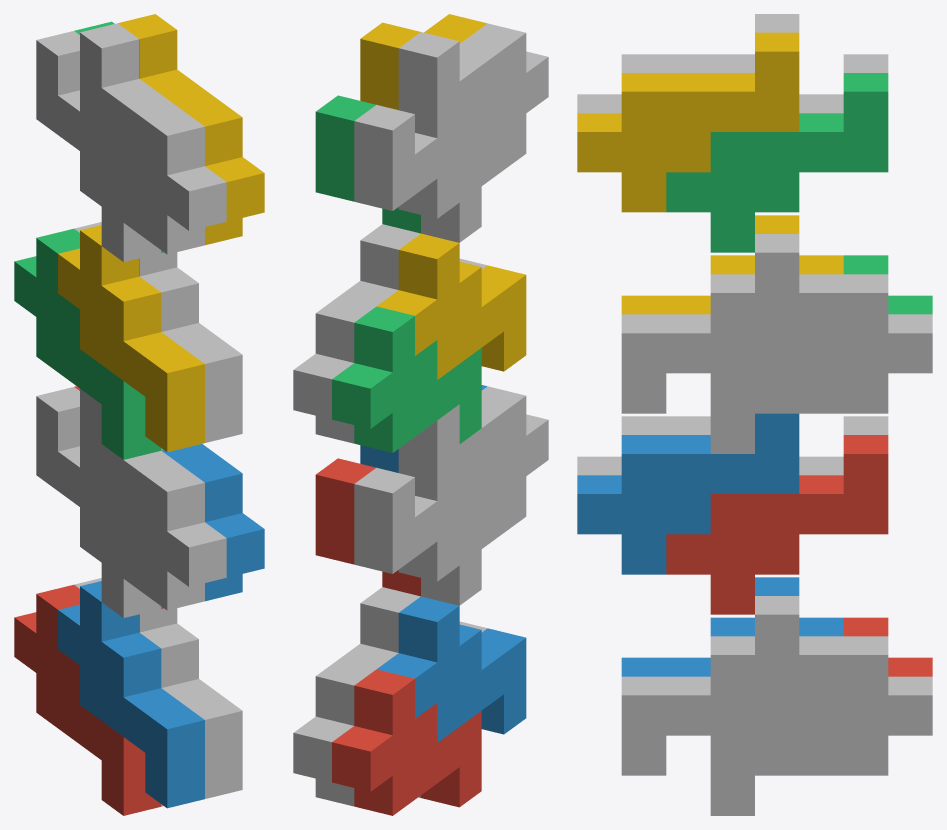
Rendered from tiling.obj.
3 renders of one model, left to right at view 1: azimuth 30°, elevation 25°; view 2: azimuth 150°, elevation 25°; view 3: azimuth 270°, elevation 25°, orthographic.
Visible parts, largest first — view 1: copy_2_domain_4, copy_1_domain_2, copy_1_domain_4, copy_2_domain_2, copy_1_domain_3, copy_1_domain_1, copy_2_domain_1, copy_2_domain_3, copy_2_domain_8, copy_1_domain_8, copy_1_domain_6, copy_2_domain_6; view 2: copy_1_domain_1, copy_2_domain_1, copy_2_domain_3, copy_1_domain_3, copy_2_domain_4, copy_1_domain_2, copy_1_domain_4, copy_2_domain_2, copy_1_domain_5, copy_1_domain_7, copy_2_domain_5, copy_2_domain_7 (+4 smaller); view 3: copy_1_domain_6, copy_1_domain_8, copy_2_domain_8, copy_2_domain_6, copy_1_domain_7, copy_1_domain_5, copy_2_domain_5, copy_2_domain_7, copy_1_domain_2, copy_1_domain_4, copy_2_domain_4, copy_2_domain_2 (+4 smaller).
Boxes of the visible parts, bbox=[...] form: copy_2_domain_4: bbox=[80, 23, 226, 254]; copy_1_domain_2: bbox=[58, 581, 204, 808]; copy_1_domain_4: bbox=[58, 225, 204, 452]; copy_2_domain_2: bbox=[80, 389, 226, 610]; copy_1_domain_3: bbox=[14, 228, 161, 459]; copy_1_domain_1: bbox=[14, 584, 161, 815]; copy_2_domain_1: bbox=[36, 387, 161, 617]; copy_2_domain_3: bbox=[36, 31, 161, 261]; copy_2_domain_8: bbox=[118, 14, 264, 245]; copy_1_domain_8: bbox=[139, 252, 242, 442]; copy_1_domain_6: bbox=[139, 608, 242, 798]; copy_2_domain_6: bbox=[161, 444, 264, 601]; copy_1_domain_1: bbox=[332, 669, 481, 815]; copy_2_domain_1: bbox=[354, 467, 503, 605]; copy_2_domain_3: bbox=[354, 105, 503, 242]; copy_1_domain_3: bbox=[332, 306, 481, 452]; copy_2_domain_4: bbox=[398, 23, 548, 169]; copy_1_domain_2: bbox=[377, 596, 526, 742]; copy_1_domain_4: bbox=[377, 233, 526, 379]; copy_2_domain_2: bbox=[398, 386, 548, 532]; copy_1_domain_5: bbox=[293, 660, 420, 806]; copy_1_domain_7: bbox=[293, 297, 375, 443]; copy_2_domain_5: bbox=[315, 458, 420, 596]; copy_2_domain_7: bbox=[315, 95, 420, 233]; copy_1_domain_6: bbox=[621, 596, 843, 775]; copy_1_domain_8: bbox=[621, 234, 843, 413]; copy_2_domain_8: bbox=[577, 32, 799, 212]; copy_2_domain_6: bbox=[577, 413, 799, 574]; copy_1_domain_7: bbox=[710, 274, 932, 453]; copy_1_domain_5: bbox=[710, 636, 932, 815]; copy_2_domain_5: bbox=[666, 435, 888, 614]; copy_2_domain_7: bbox=[666, 73, 888, 252]; copy_1_domain_2: bbox=[621, 577, 843, 676]; copy_1_domain_4: bbox=[621, 215, 843, 314]; copy_2_domain_4: bbox=[577, 14, 799, 113]; copy_2_domain_2: bbox=[577, 416, 710, 475].
Bounding box in the file's own units: 2 × 19 × 8.
